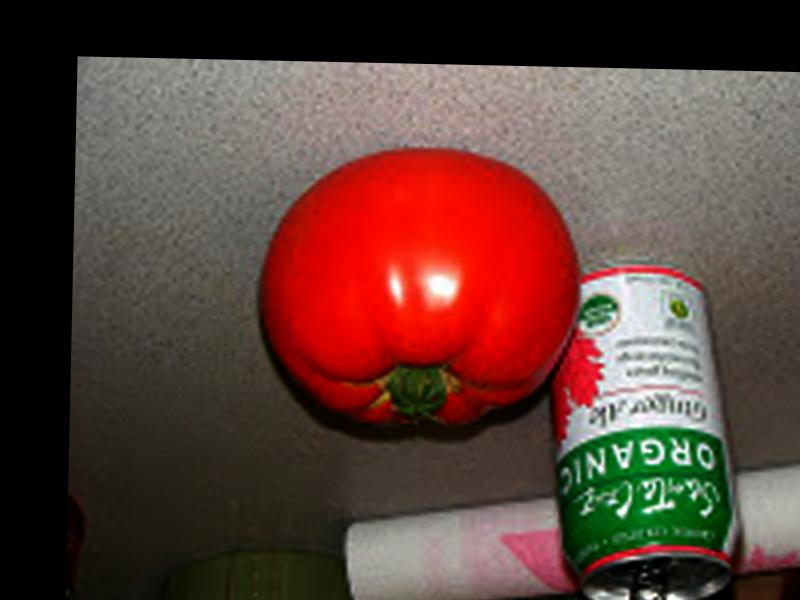Tomato: (261, 148, 579, 426)
